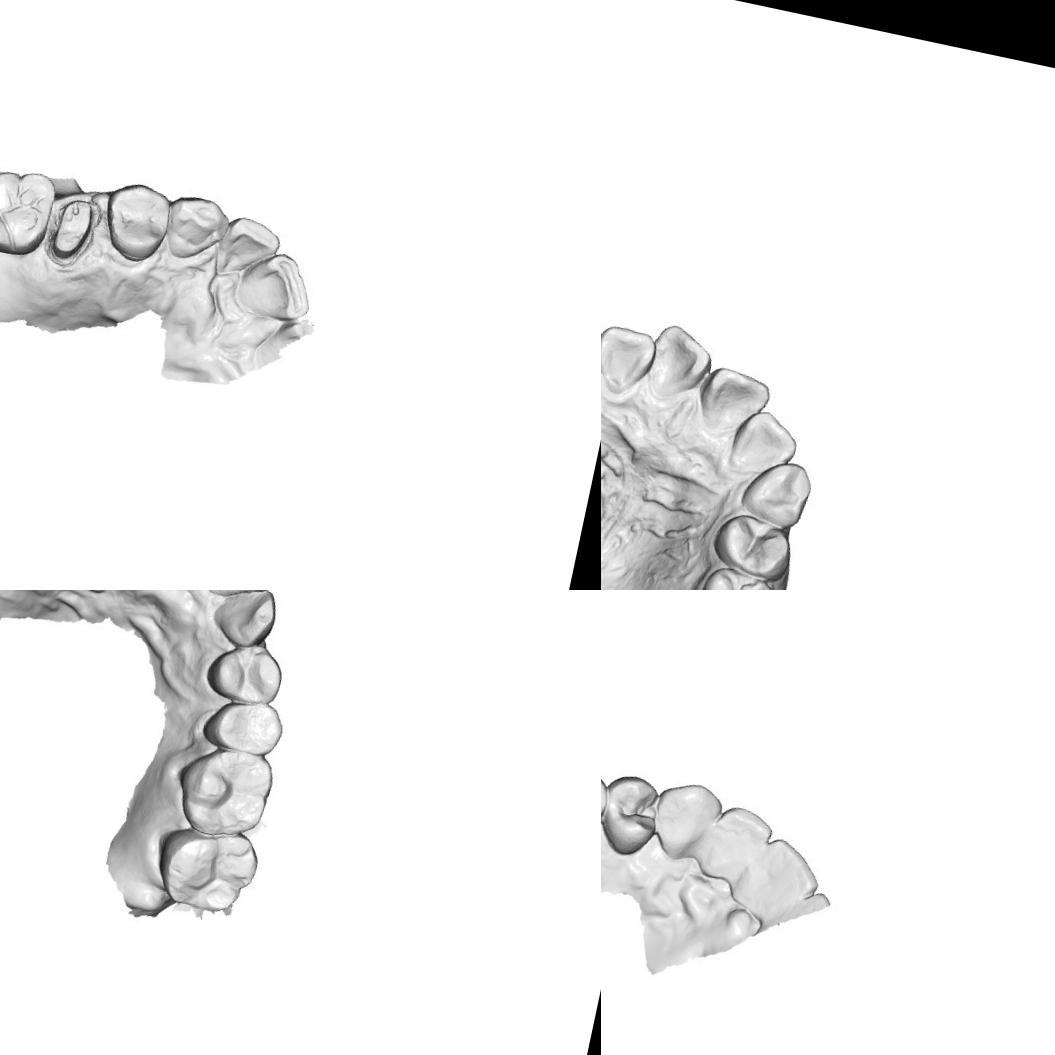canine: (646, 774, 728, 868), (158, 190, 232, 268), (204, 590, 283, 652), (746, 458, 812, 529), (215, 590, 279, 646)
crown: (43, 188, 102, 272)
incisor: (698, 801, 777, 891), (232, 246, 319, 327), (742, 831, 827, 913), (696, 367, 772, 444), (726, 411, 799, 490), (210, 211, 286, 286), (640, 320, 710, 401), (601, 320, 655, 393)
molar: (164, 738, 280, 848), (148, 817, 264, 924), (0, 161, 63, 263)
premolar: (96, 175, 178, 270), (199, 634, 290, 710), (198, 693, 287, 764), (714, 506, 797, 582), (601, 769, 663, 862), (696, 562, 787, 590)
